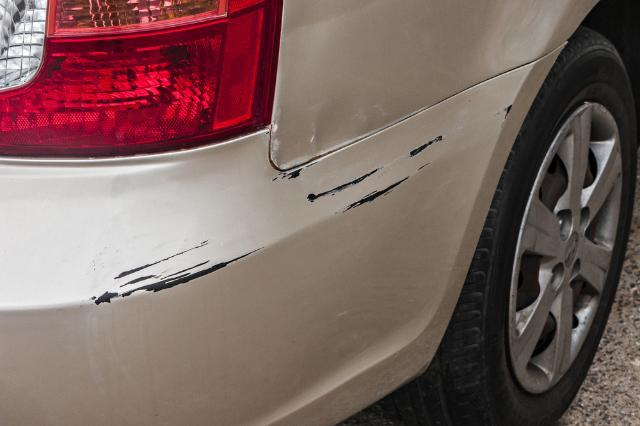scratch: (265, 103, 516, 218), (91, 236, 268, 309)
